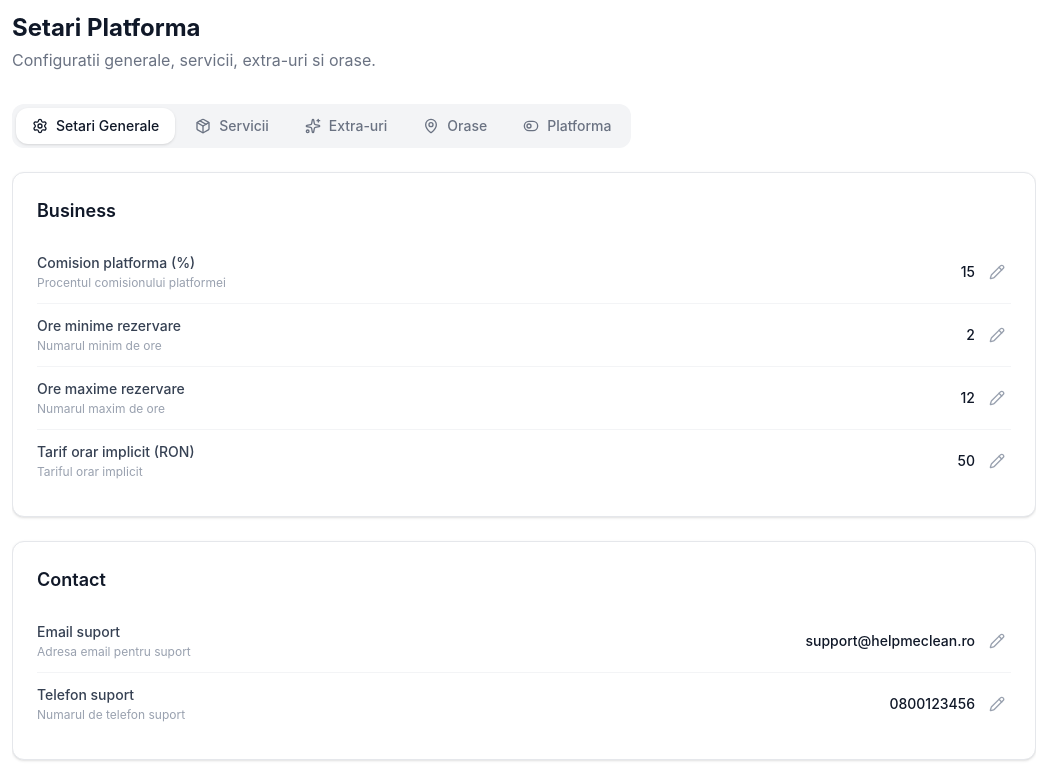
Test case: Admin SettingsPage › shows extras table when Extra-uri tab is active
Step 1. Click the button "Extra-uri" → (346, 126), box [289,108,403,144]
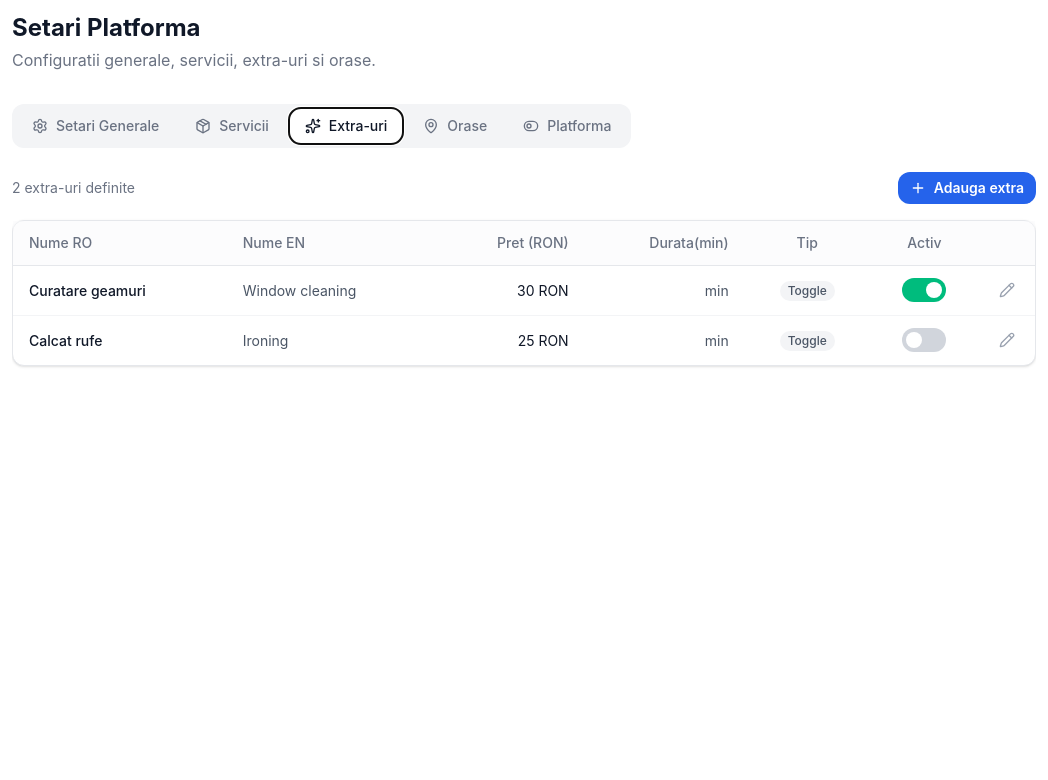
Check: the text "Curatare geamuri" is shown, box [29,282,146,298]
Check: the text "Calcat rufe" is shown, box [29,332,102,348]
Check: the text "2 extra-uri definite" is shown, box [12,178,135,198]
